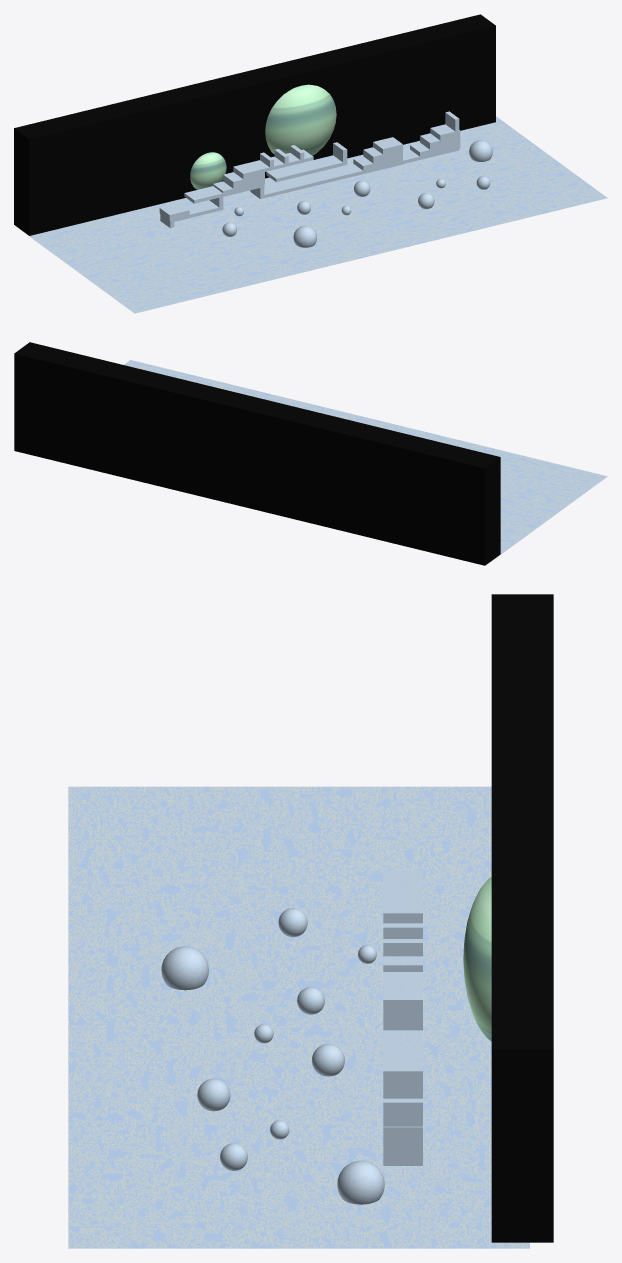
Rendered from Level 1.obj.
3 renders of one model, top to bottom at view 1: azimuth 30°, elevation 25°; view 2: azimuth 150°, elevation 25°; view 3: azimuth 270°, elevation 25°, orthographic. The views are drawn at different scales.
Parts seen in each view (by area): view 1: Box001, Plane001, Sphere005, Sphere006, Box010, Box012, Box008, Box013, Box004, Box016, Box023, Box002 (+3 smaller); view 2: Box001, Plane001; view 3: Plane001, Box001, Sphere005, Box016, Sphere012, Sphere002, Box023, Box009, Box008, Box026, Box010, Sphere010 (+1 smaller).
Boxes of the visible parts, bbox=[...] form: Box001: bbox=[14, 14, 495, 235]; Plane001: bbox=[19, 116, 607, 313]; Sphere005: bbox=[265, 84, 336, 155]; Sphere006: bbox=[190, 152, 226, 189]; Box010: bbox=[266, 155, 346, 182]; Box012: bbox=[264, 171, 332, 198]; Box008: bbox=[233, 149, 313, 177]; Box013: bbox=[323, 161, 403, 181]; Box004: bbox=[184, 184, 264, 203]; Box016: bbox=[373, 137, 402, 164]; Box023: bbox=[430, 124, 460, 150]; Box002: bbox=[171, 200, 220, 222]; Box001: bbox=[14, 342, 500, 565]; Plane001: bbox=[124, 360, 607, 561]; Plane001: bbox=[68, 786, 529, 1248]; Box001: bbox=[491, 594, 553, 1242]; Sphere005: bbox=[463, 877, 491, 1041]; Box016: bbox=[383, 1052, 422, 1098]; Sphere012: bbox=[337, 1160, 384, 1204]; Sphere002: bbox=[161, 946, 208, 990]; Box023: bbox=[383, 1126, 422, 1162]; Box009: bbox=[383, 996, 422, 1028]; Box008: bbox=[383, 896, 422, 971]; Box026: bbox=[383, 1098, 422, 1126]; Box010: bbox=[383, 972, 422, 1030]; Sphere010: bbox=[197, 1078, 230, 1111].
Size of the model in its own units: 1538 by 315 by 683.
Materials: 3 (2 with a texture image).
